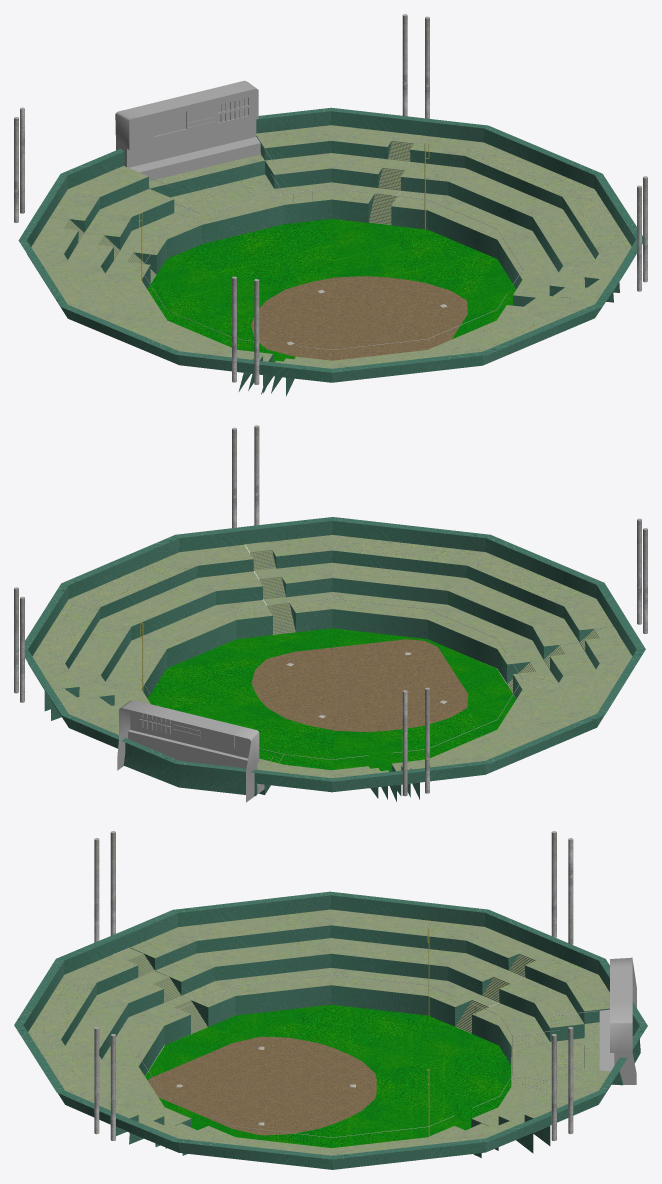
The model's file is stage_kyujyo-.fbx.
3 renders of one model, top to bottom at view 1: azimuth 30°, elevation 25°; view 2: azimuth 150°, elevation 25°; view 3: azimuth 270°, elevation 25°, orthographic.
Visible parts, largest first — view 1: polymsh22, polymsh_extracted5, polymsh_extracted4, polymsh_detached1, polymsh_detached3, cylinder3, cylinder4; view 2: polymsh22, polymsh_extracted5, polymsh_extracted4, polymsh_detached1, polymsh_detached3, cylinder3, cylinder4; view 3: polymsh22, polymsh_extracted5, polymsh_extracted4, polymsh_detached1, polymsh_detached3, cylinder4, cylinder3, polymsh8.
Boxes of the visible parts, x1,y1,x2,y2 form: polymsh22: (18,107,642,396); polymsh_extracted5: (147,219,516,362); polymsh_extracted4: (251,276,467,360); polymsh_detached1: (115,80,260,181); polymsh_detached3: (44,132,613,373); cylinder3: (20,14,641,384); cylinder4: (14,16,647,382); polymsh22: (19,517,645,801); polymsh_extracted5: (148,628,516,771); polymsh_extracted4: (251,639,468,731); polymsh_detached1: (117,700,264,802); polymsh_detached3: (45,541,619,707); cylinder3: (20,425,641,796); cylinder4: (14,427,647,793); polymsh22: (14,891,647,1169); polymsh_extracted5: (145,1004,511,1147); polymsh_extracted4: (148,1036,376,1135); polymsh_detached1: (599,957,636,1084); polymsh_detached3: (113,947,550,1131); cylinder4: (110,831,556,1140); cylinder3: (94,838,573,1134); polymsh8: (208,974,454,1137).
Size of the model in its own units: 1098 by 303 by 1098.
2 materials, 1 textured.
